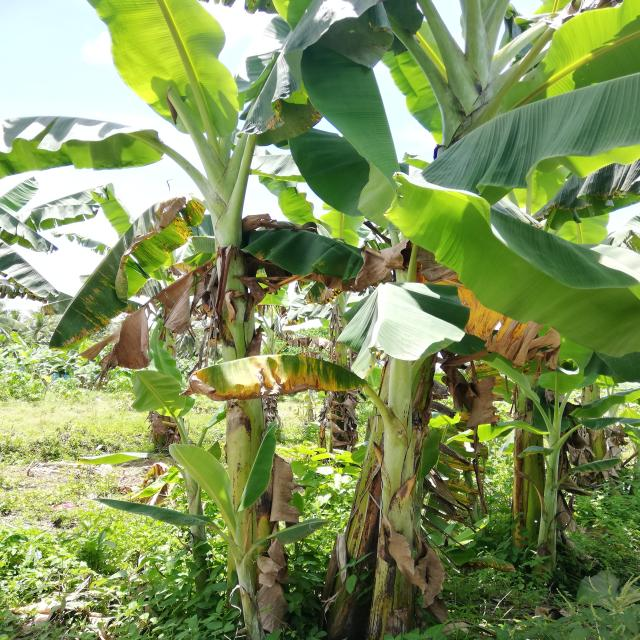Banana-plant: (176, 146, 295, 640), (362, 291, 431, 640)
